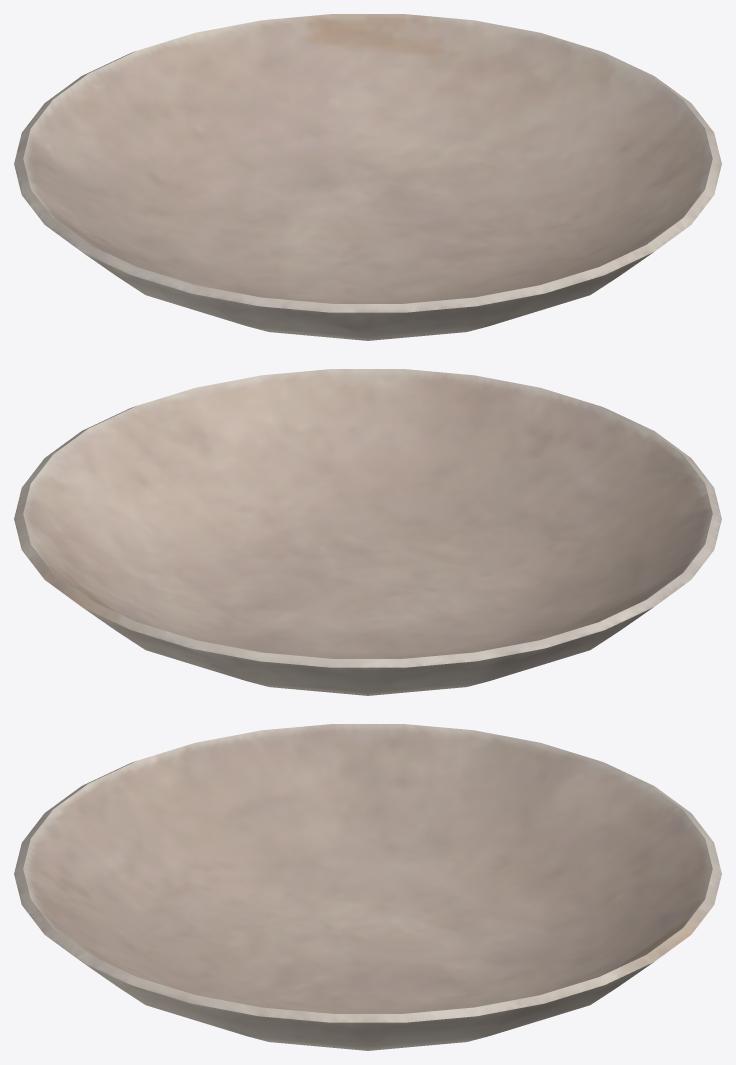
File: SM_Tableware_Plate_02.fbx
3 views of the same model, one above another, from view 1: azimuth 30°, elevation 25°; view 2: azimuth 150°, elevation 25°; view 3: azimuth 270°, elevation 25° (orthographic).
Parts seen in each view (by area): view 1: SM_Tableware_Plate_02_LOD0; view 2: SM_Tableware_Plate_02_LOD0; view 3: SM_Tableware_Plate_02_LOD0.
Part boxes in pixels (x1=…): SM_Tableware_Plate_02_LOD0: x1=14, y1=14, x2=721, y2=340; SM_Tableware_Plate_02_LOD0: x1=14, y1=369, x2=721, y2=695; SM_Tableware_Plate_02_LOD0: x1=14, y1=724, x2=721, y2=1050.
Bounding box in the file's own units: 23.77 × 23.9 × 3.62.
1 material, 1 textured.
